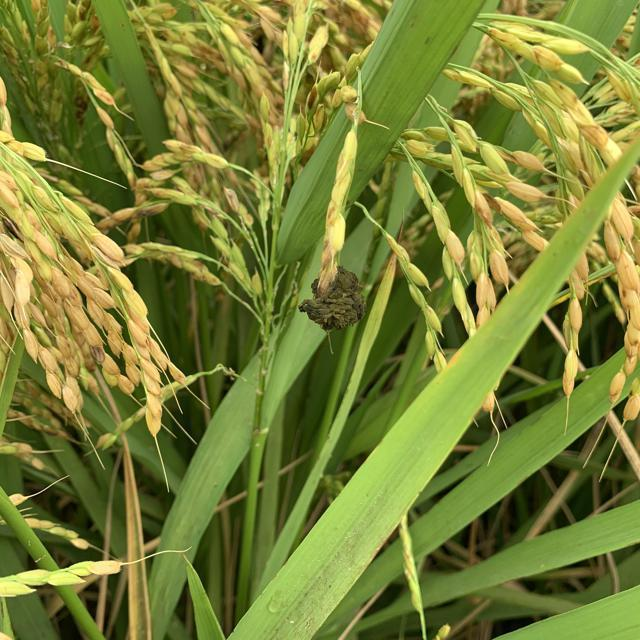Leaf_Scald: (300, 263, 371, 333)
